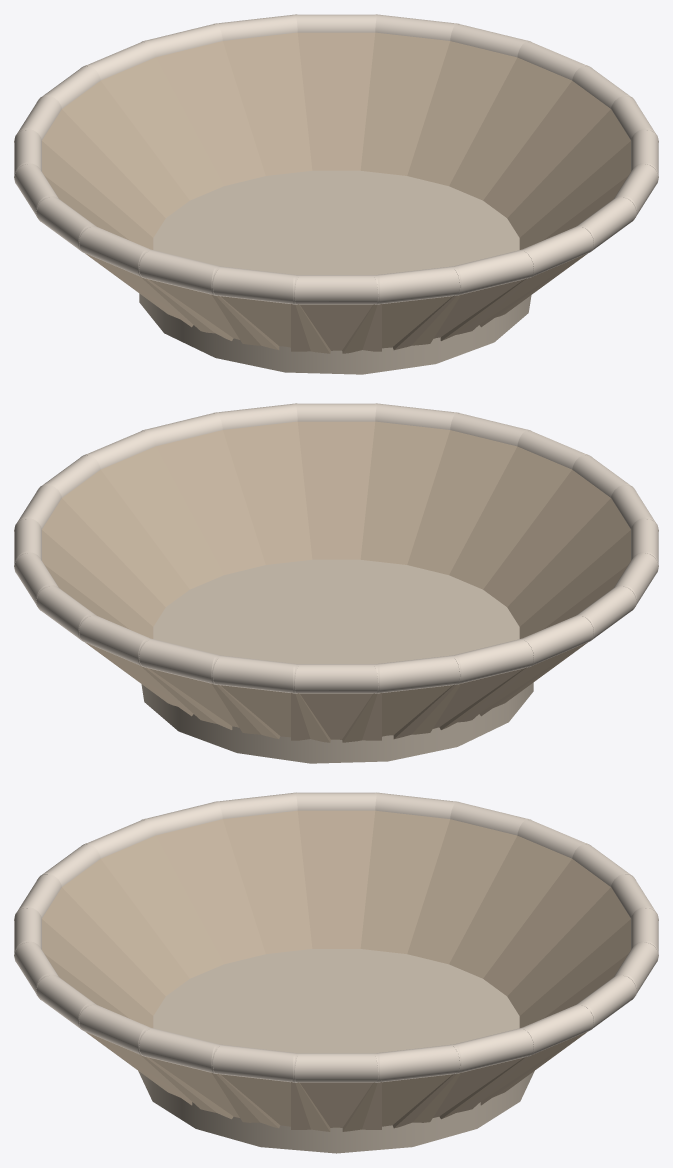
File: CMU3DFoodBowlBigCloud.glb
3 renders of one model, top to bottom at view 1: azimuth 30°, elevation 25°; view 2: azimuth 150°, elevation 25°; view 3: azimuth 270°, elevation 25°, orthographic.
Parts seen in each view (by area): view 1: closed ceramic basin floor, flared hollow ceramic wall 05, flared hollow ceramic wall 04, flared hollow ceramic wall 06, flared hollow ceramic wall 03, flared hollow ceramic wall 07, flared hollow ceramic wall 02, flared hollow ceramic wall 08, flared hollow ceramic wall 01, flared hollow ceramic wall 09, flared hollow ceramic wall 10, flared hollow ceramic wall 24 (+35 smaller); view 2: closed ceramic basin floor, flared hollow ceramic wall 21, flared hollow ceramic wall 20, flared hollow ceramic wall 22, flared hollow ceramic wall 19, flared hollow ceramic wall 23, flared hollow ceramic wall 18, flared hollow ceramic wall 24, flared hollow ceramic wall 01, flared hollow ceramic wall 17, flared hollow ceramic wall 02, flared hollow ceramic wall 16 (+35 smaller); view 3: closed ceramic basin floor, flared hollow ceramic wall 13, flared hollow ceramic wall 12, flared hollow ceramic wall 14, flared hollow ceramic wall 11, flared hollow ceramic wall 15, flared hollow ceramic wall 10, flared hollow ceramic wall 16, flared hollow ceramic wall 09, flared hollow ceramic wall 17, flared hollow ceramic wall 08, flared hollow ceramic wall 18 (+35 smaller).
Boxes of the visible parts, x1,y1,x2,y2 form: closed ceramic basin floor: (139, 170, 531, 374); flared hollow ceramic wall 05: (297, 32, 375, 170); flared hollow ceramic wall 04: (360, 32, 449, 175); flared hollow ceramic wall 06: (223, 32, 312, 175); flared hollow ceramic wall 03: (407, 41, 517, 185); flared hollow ceramic wall 07: (155, 41, 265, 185); flared hollow ceramic wall 02: (449, 57, 571, 200); flared hollow ceramic wall 08: (101, 57, 223, 200); flared hollow ceramic wall 01: (483, 80, 610, 217); flared hollow ceramic wall 09: (62, 80, 189, 217); flared hollow ceramic wall 10: (42, 109, 165, 237); flared hollow ceramic wall 24: (507, 109, 630, 237); closed ceramic basin floor: (141, 559, 533, 763); flared hollow ceramic wall 21: (297, 421, 375, 559); flared hollow ceramic wall 20: (360, 421, 449, 564); flared hollow ceramic wall 22: (223, 421, 312, 564); flared hollow ceramic wall 19: (407, 430, 517, 574); flared hollow ceramic wall 23: (155, 430, 265, 574); flared hollow ceramic wall 18: (449, 446, 571, 589); flared hollow ceramic wall 24: (101, 446, 223, 589); flared hollow ceramic wall 01: (62, 469, 189, 606); flared hollow ceramic wall 17: (483, 469, 610, 606); flared hollow ceramic wall 02: (42, 498, 165, 626); flared hollow ceramic wall 16: (507, 498, 630, 626); closed ceramic basin floor: (138, 949, 534, 1153); flared hollow ceramic wall 13: (297, 810, 375, 948); flared hollow ceramic wall 12: (360, 810, 449, 953); flared hollow ceramic wall 14: (223, 810, 312, 953); flared hollow ceramic wall 11: (407, 819, 516, 964); flared hollow ceramic wall 15: (156, 819, 265, 964); flared hollow ceramic wall 10: (449, 835, 571, 978); flared hollow ceramic wall 16: (101, 835, 223, 978); flared hollow ceramic wall 09: (483, 859, 610, 995); flared hollow ceramic wall 17: (62, 859, 189, 995); flared hollow ceramic wall 08: (507, 887, 630, 1015); flared hollow ceramic wall 18: (42, 887, 165, 1015).
Size of the model in its own units: 0.7324 by 0.2 by 0.7324.
